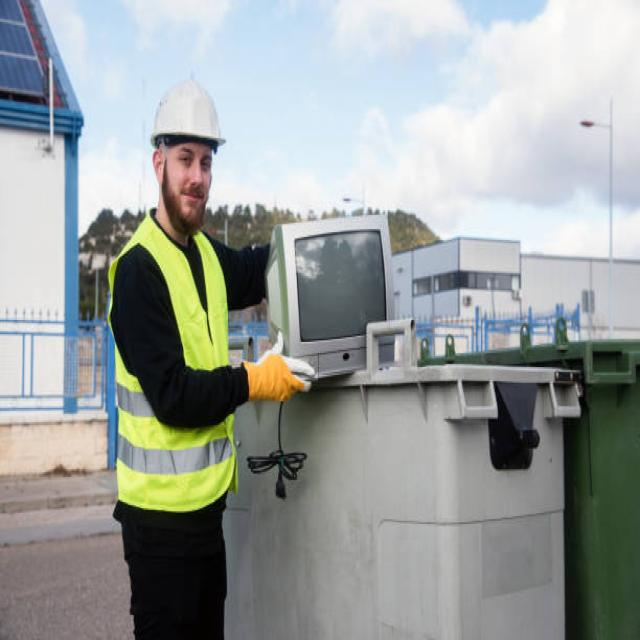Gloves: (239, 329, 316, 402)
Vest: (110, 207, 244, 513)
helmet: (147, 76, 230, 149)
person: (104, 72, 318, 640)
